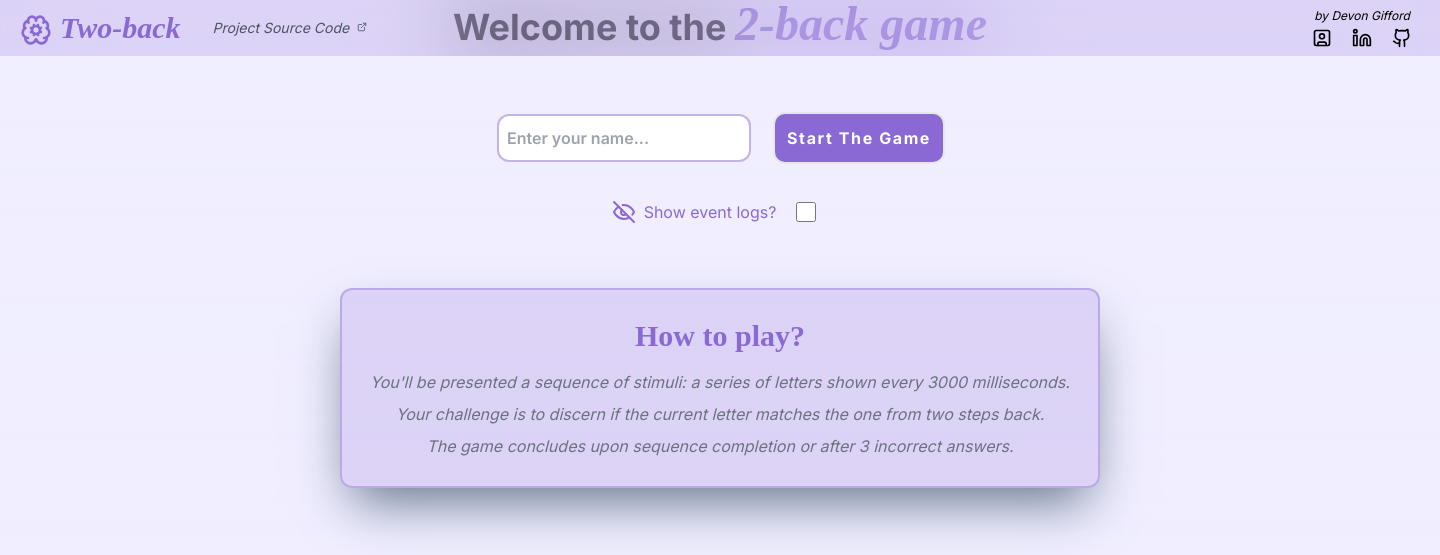
Test: Form Submission Tests › Short Username, displays an error message
Step 1. Click the field → (624, 138), box left=497, top=114, right=751, bottom=162
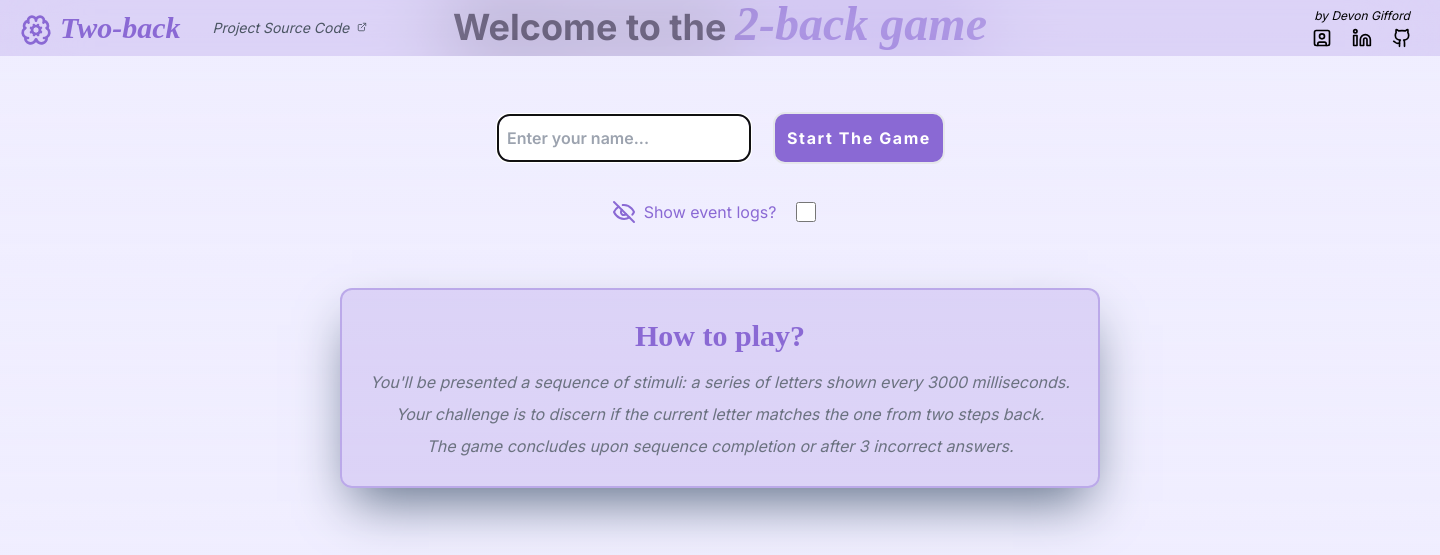
Step 2. Type keys "no"
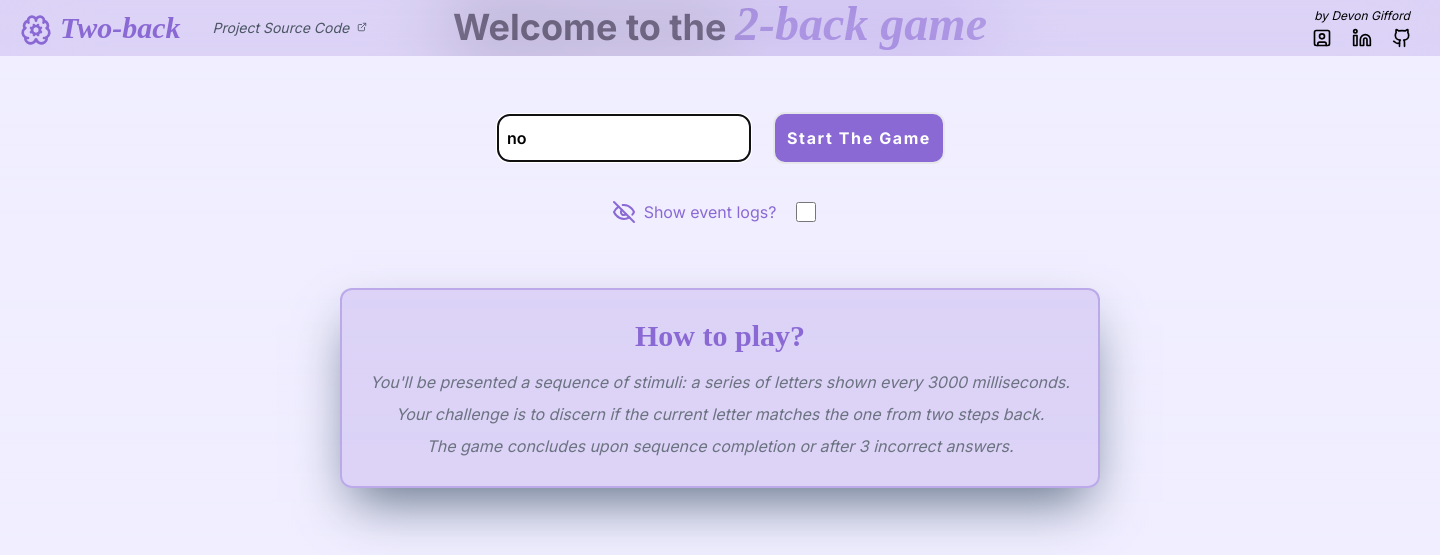
Expected: the field holds "no", left=497, top=114, right=751, bottom=162
Step 3. Click the button "Start The Game" → (859, 138), box left=773, top=112, right=945, bottom=164
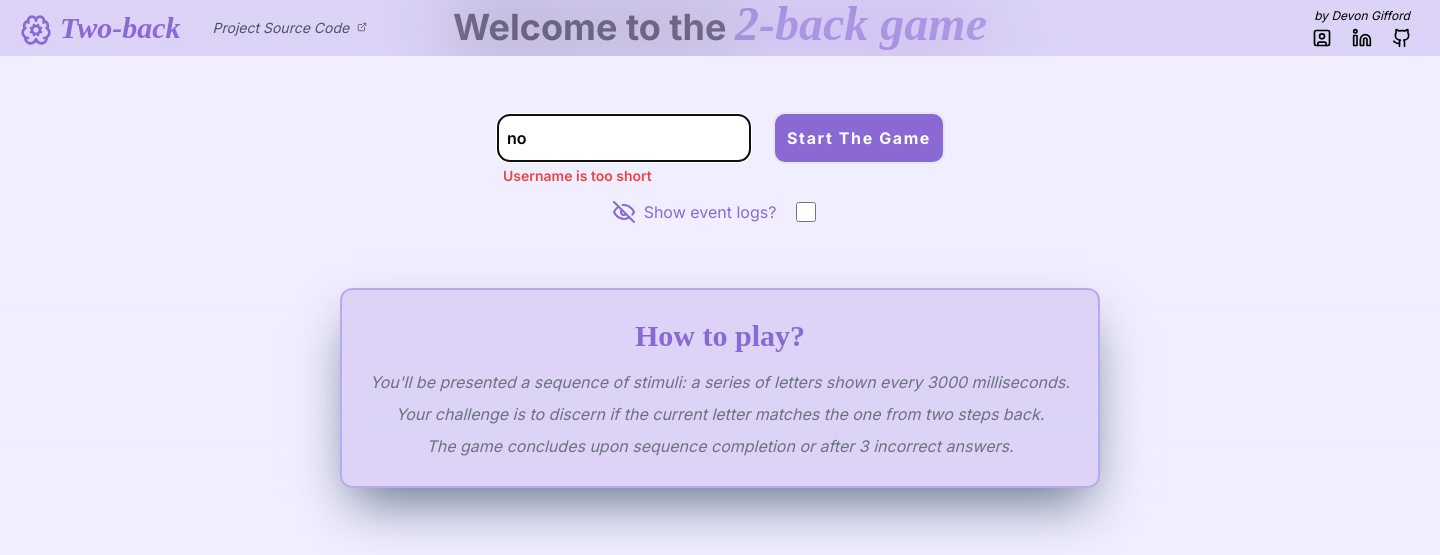
Expected: the text "Username is too short" is shown, left=503, top=166, right=652, bottom=182
